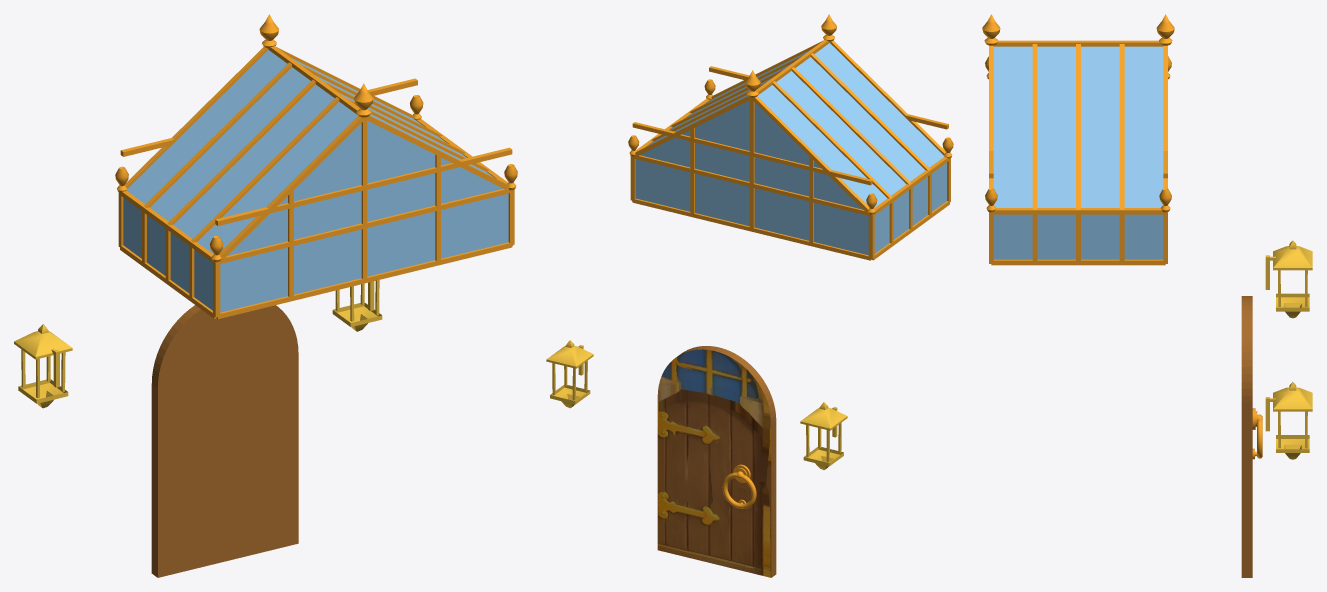
The model's file is HaloShop_Flower_deco.glb.
3 views of the same model, side by side, from view 1: azimuth 30°, elevation 25°; view 2: azimuth 150°, elevation 25°; view 3: azimuth 270°, elevation 25° (orthographic). The views are drawn at different scales.
Visible parts, largest first — view 1: HaloShop_Flower_RoofGlass, HaloShop_Flower_Leaf, HaloShop_Flower_RoofFrame, HaloShop_Flower_Lantern0, HaloShop_Flower_Lantern1; view 2: HaloShop_Flower_RoofGlass, HaloShop_Flower_Leaf, HaloShop_Flower_RoofFrame, HaloShop_Flower_Lantern0, HaloShop_Flower_Lantern1, Orn_HaloShop_Flower_Knocker; view 3: HaloShop_Flower_RoofGlass, HaloShop_Flower_RoofFrame, HaloShop_Flower_Leaf, HaloShop_Flower_Lantern0, HaloShop_Flower_Lantern1.
Boxes of the visible parts, left/top/right/bottom form: HaloShop_Flower_RoofGlass: left=123, top=50, right=508, bottom=312; HaloShop_Flower_Leaf: left=151, top=305, right=298, bottom=577; HaloShop_Flower_RoofFrame: left=118, top=46, right=514, bottom=319; HaloShop_Flower_Lantern0: left=14, top=324, right=72, bottom=408; HaloShop_Flower_Lantern1: left=332, top=280, right=382, bottom=331; HaloShop_Flower_RoofGlass: left=635, top=43, right=946, bottom=255; HaloShop_Flower_Leaf: left=657, top=346, right=776, bottom=577; HaloShop_Flower_RoofFrame: left=630, top=40, right=950, bottom=260; HaloShop_Flower_Lantern0: left=800, top=402, right=847, bottom=469; HaloShop_Flower_Lantern1: left=546, top=340, right=593, bottom=408; Orn_HaloShop_Flower_Knocker: left=722, top=464, right=756, bottom=508; HaloShop_Flower_RoofGlass: left=993, top=46, right=1163, bottom=259; HaloShop_Flower_RoofFrame: left=989, top=40, right=1167, bottom=265; HaloShop_Flower_Leaf: left=1241, top=296, right=1252, bottom=577; HaloShop_Flower_Lantern0: left=1265, top=240, right=1312, bottom=318; HaloShop_Flower_Lantern1: left=1265, top=382, right=1312, bottom=459.
Bounding box in the file's own units: 10.74 × 16.85 × 9.48.
Materials: 5 (1 with a texture image).
